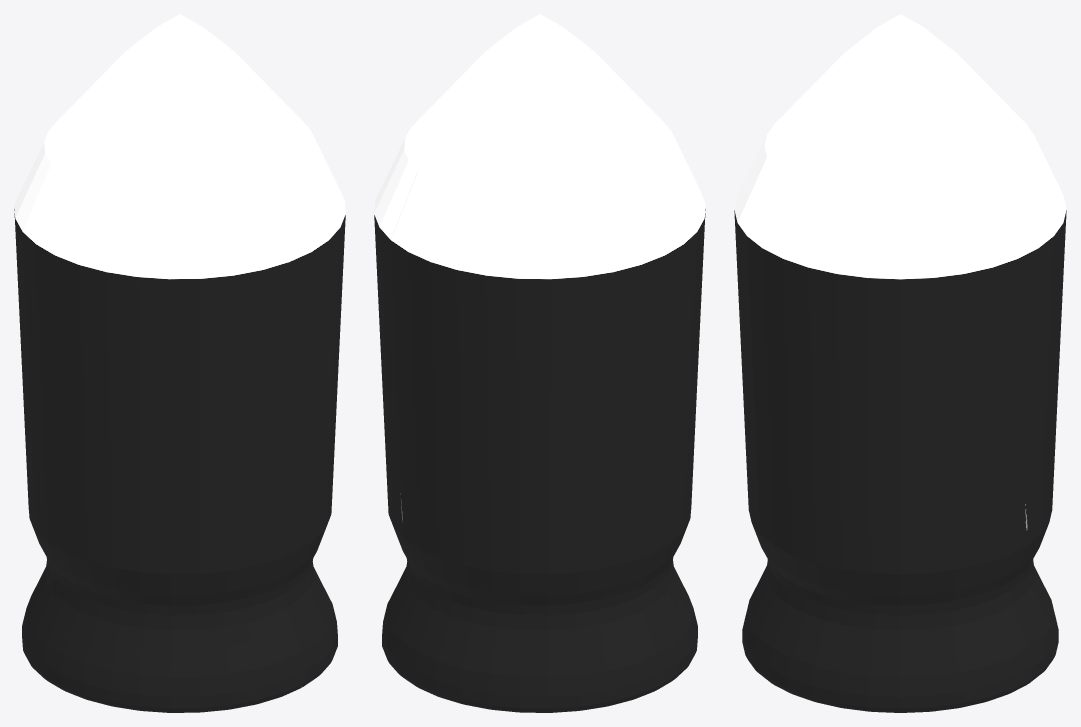
File: ButterFlyBullet.fbx
3 views of the same model, side by side, from view 1: azimuth 30°, elevation 25°; view 2: azimuth 150°, elevation 25°; view 3: azimuth 270°, elevation 25° (orthographic).
Visible parts, largest first — view 1: ButterFlyBullet; view 2: ButterFlyBullet; view 3: ButterFlyBullet.
Part boxes in pixels (<box>): ButterFlyBullet: <box>14,14,345,712</box>; ButterFlyBullet: <box>374,14,705,712</box>; ButterFlyBullet: <box>734,14,1066,712</box>.
Size of the model in its own units: 22.18 by 46.82 by 22.18.
1 material, 1 textured.
